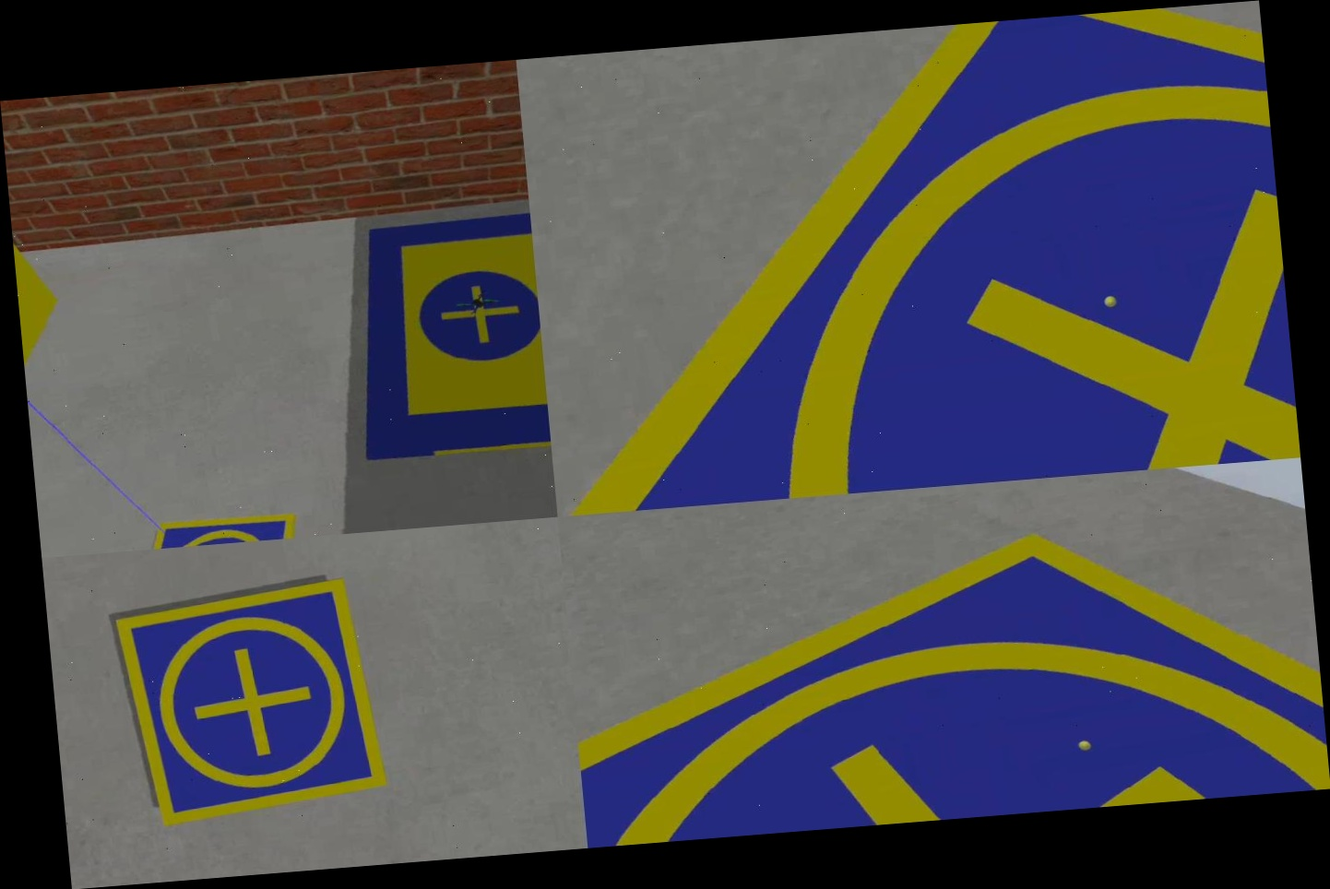large_base: (322, 190, 553, 486)
small_base: (517, 0, 1300, 516), (559, 470, 1330, 848), (111, 576, 391, 829), (101, 500, 310, 553)
